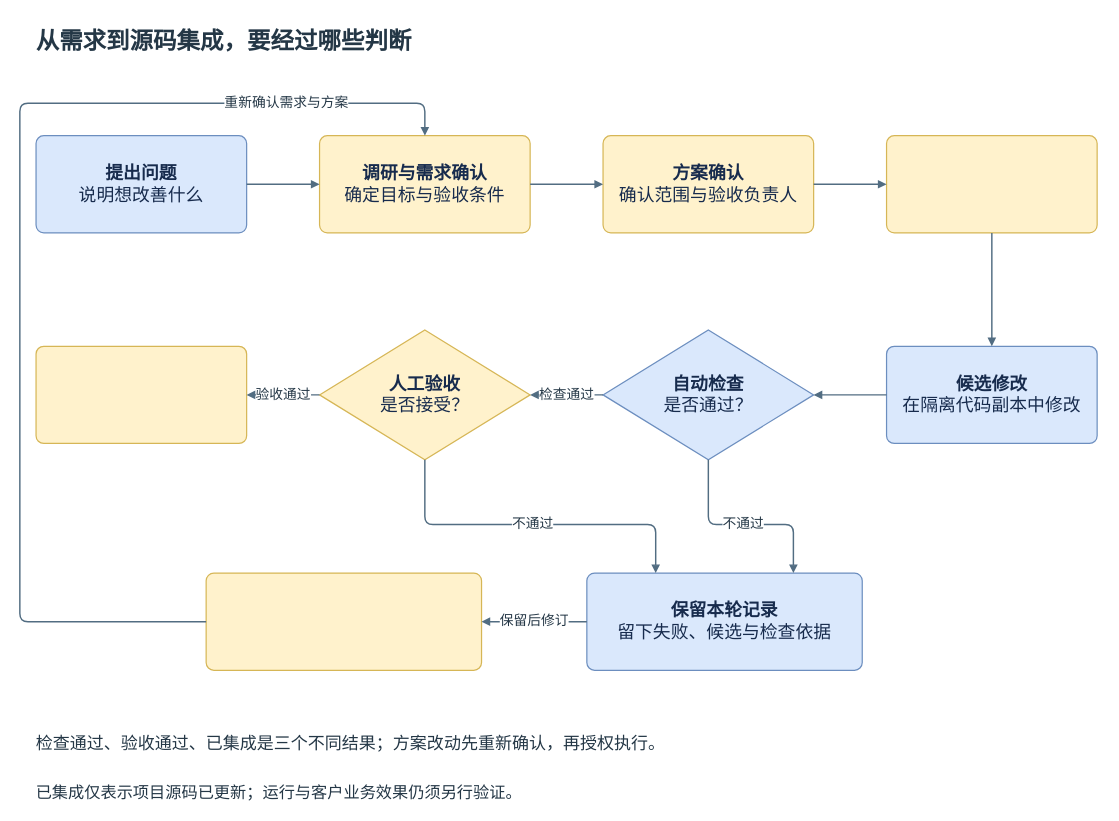
This 1119x821 diagram has some shape labels left out. The shapes that lost their labels are listed below. From the top down, each one's centre as x and y in pixels, then its label:
the point at 991,184: 授权执行 仅执行已确认的方案
the point at 141,394: 明确集成到项目 完成后：已集成
the point at 343,621: 修订并重新确认 随后再次授权
